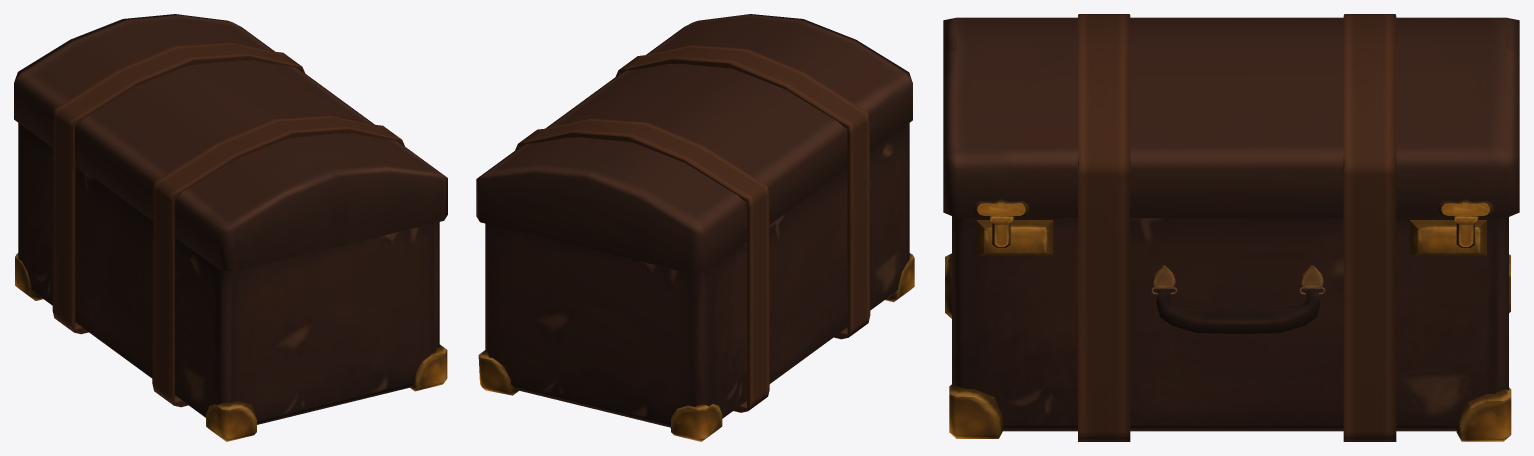
The model's file is Trunk_B.fbx.
3 views of the same model, side by side, from view 1: azimuth 30°, elevation 25°; view 2: azimuth 150°, elevation 25°; view 3: azimuth 270°, elevation 25° (orthographic). The views are drawn at different scales.
Parts seen in each view (by area): view 1: Trunk_Base_A1, Trunk_Lid_B, Laether_Strap_B1, Laether_Strap_B, Corner_A11, Corner_A10, Corner_A9; view 2: Trunk_Base_A1, Trunk_Lid_B, Laether_Strap_B1, Laether_Strap_B, Corner_A9, Corner_A8, Corner_A11; view 3: Trunk_Lid_B, Trunk_Base_A1, Laether_Strap_B1, Laether_Strap_B, Handle_A1, Corner_A10, Corner_A8, Lock_A_7, Lock_A_10, Lock_A_12, Lock_A_8, Lock_A_11 (+1 smaller).
Boxes of the visible parts, <box> form: Trunk_Base_A1: <box>18,123,439,424</box>; Trunk_Lid_B: <box>14,14,447,271</box>; Laether_Strap_B1: <box>52,41,305,334</box>; Laether_Strap_B: <box>152,114,404,407</box>; Corner_A11: <box>206,401,256,441</box>; Corner_A10: <box>410,344,447,391</box>; Corner_A9: <box>15,253,43,300</box>; Trunk_Base_A1: <box>485,123,909,427</box>; Trunk_Lid_B: <box>476,14,912,273</box>; Laether_Strap_B1: <box>515,118,769,412</box>; Laether_Strap_B: <box>615,45,870,339</box>; Corner_A9: <box>670,404,722,441</box>; Corner_A8: <box>478,350,518,395</box>; Corner_A11: <box>885,253,914,302</box>; Trunk_Lid_B: <box>943,17,1519,218</box>; Trunk_Base_A1: <box>952,216,1508,431</box>; Laether_Strap_B1: <box>1343,14,1396,441</box>; Laether_Strap_B: <box>1078,14,1130,441</box>; Handle_A1: <box>1151,287,1325,333</box>; Corner_A10: <box>949,384,1003,438</box>; Corner_A8: <box>1456,387,1511,441</box>; Lock_A_7: <box>976,220,1053,255</box>; Lock_A_10: <box>1409,220,1486,255</box>; Lock_A_12: <box>1438,199,1493,216</box>; Lock_A_8: <box>974,199,1028,216</box>; Lock_A_11: <box>1452,216,1479,247</box>.
Bounding box in the file's own units: 7.57 × 7.68 × 12.14.
